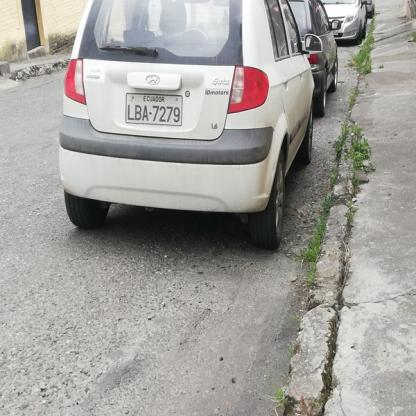Placa: (126, 91, 185, 128)
